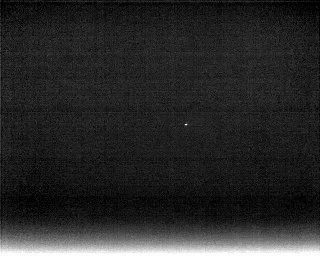AIRPLANE: (181, 121, 190, 130)
